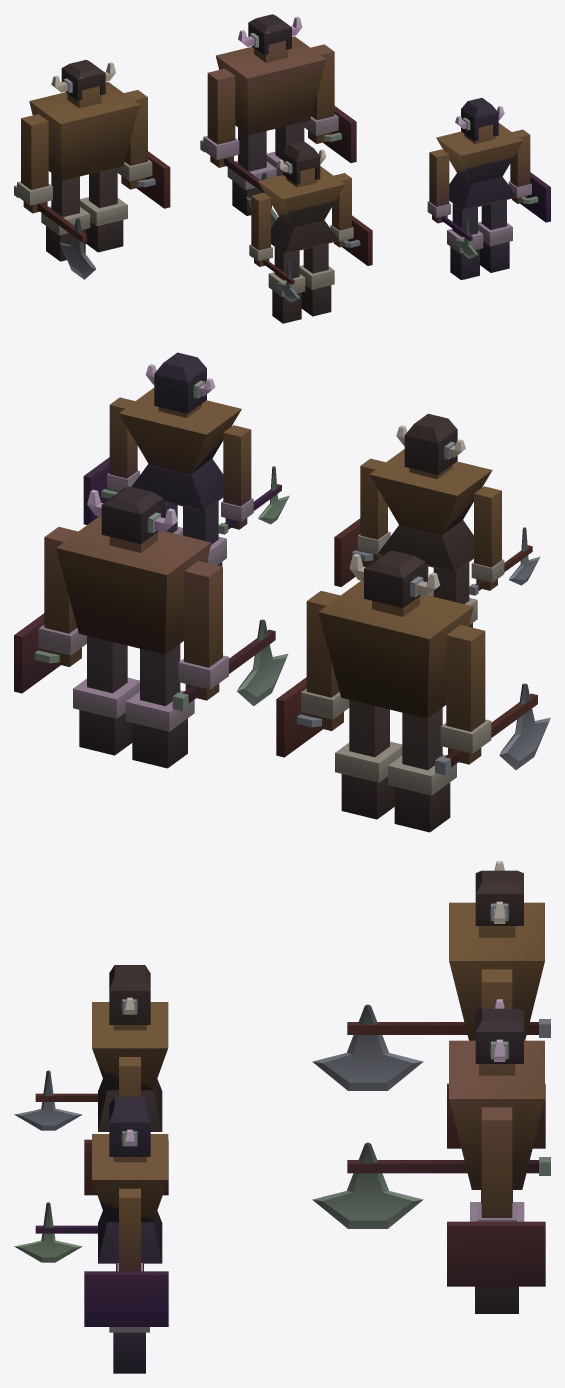
File: barbarians.fbx
3 views of the same model, one above another, from view 1: azimuth 30°, elevation 25°; view 2: azimuth 150°, elevation 25°; view 3: azimuth 270°, elevation 25° (orthographic). The views are drawn at different scales.
Parts seen in each view (by area): view 1: body (×4), barbarianBlockPerson_rArm (×4), helmet (×4), barbarianBlockPerson_lArm (×4), shield (×4), barbarianBlockPerson_rLeg (×4), axe (×4), barbarianBlockPerson_lLeg (×4), barbarianBlockPerson_lFoot1 (×2), barbarianBlockPerson_rFoot1 (×2), barbarianBlockPerson_rFoot (×2), barbarianBlockPerson_lFoot (+3 smaller); view 2: body (×4), helmet (×4), barbarianBlockPerson_rArm (×4), barbarianBlockPerson_lArm (×4), axe (×4), barbarianBlockPerson_rFoot (×2), barbarianBlockPerson_lFoot (×2), shield (×4), barbarianBlockPerson_rLeg (×4), barbarianBlockPerson_lLeg (×2), barbarianBlockPerson_rGauntlet (×2), barbarianBlockPerson_lGauntlet (×2); view 3: body (×4), axe (×4), shield (×3), helmet (×4), barbarianBlockPerson_lArm (×4), barbarianBlockPerson_lFoot1, barbarianBlockPerson_lFoot.
Boxes of the visible parts, box(x1,y1,x2,y2) form: body (×4): box(29, 36, 523, 253); barbarianBlockPerson_rArm (×4): box(21, 68, 449, 250); helmet (×4): box(51, 14, 504, 184); barbarianBlockPerson_lArm (×4): box(124, 44, 530, 230); shield (×4): box(136, 106, 550, 265); barbarianBlockPerson_rLeg (×4): box(51, 127, 477, 280); axe (×4): box(14, 140, 477, 302); barbarianBlockPerson_lLeg (×4): box(89, 122, 506, 273); barbarianBlockPerson_lFoot1 (×2): box(299, 221, 512, 316); barbarianBlockPerson_rFoot1 (×2): box(268, 228, 483, 323); barbarianBlockPerson_rFoot (×2): box(41, 160, 276, 261); barbarianBlockPerson_lFoot: box(80, 197, 127, 252); body (×4): box(56, 388, 492, 718); helmet (×4): box(87, 352, 465, 607); barbarianBlockPerson_rArm (×4): box(184, 425, 501, 731); barbarianBlockPerson_lArm (×4): box(44, 397, 387, 697); axe (×4): box(172, 466, 550, 775); barbarianBlockPerson_rFoot (×2): box(125, 690, 456, 832); barbarianBlockPerson_lFoot (×2): box(73, 677, 402, 819); shield (×4): box(14, 457, 373, 757); barbarianBlockPerson_rLeg (×4): box(140, 501, 469, 770); barbarianBlockPerson_lLeg (×2): box(87, 635, 389, 757); barbarianBlockPerson_rGauntlet (×2): box(178, 655, 491, 753); barbarianBlockPerson_lGauntlet (×2): box(38, 624, 349, 719); body (×4): box(92, 902, 544, 1263); axe (×4): box(14, 1004, 550, 1262); shield (×3): box(84, 1083, 545, 1326); helmet (×4): box(109, 861, 523, 1156); barbarianBlockPerson_lArm (×4): box(119, 969, 512, 1271); barbarianBlockPerson_lFoot1: box(109, 1327, 149, 1373); barbarianBlockPerson_lFoot: box(475, 1286, 518, 1313).
Bounding box in the file's own units: 238 × 106 × 186.
